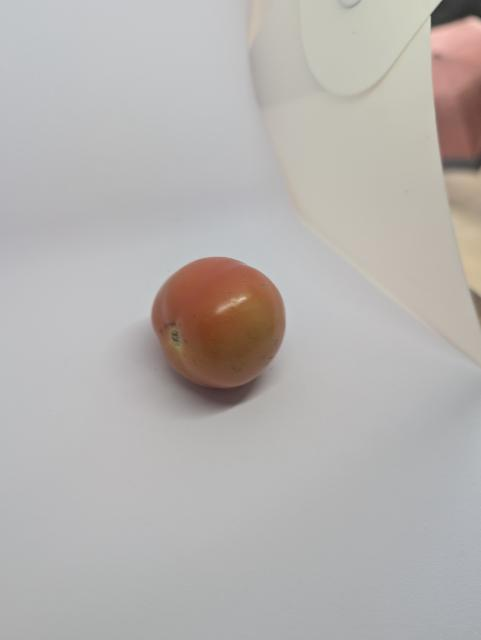turning: (147, 250, 299, 397)
